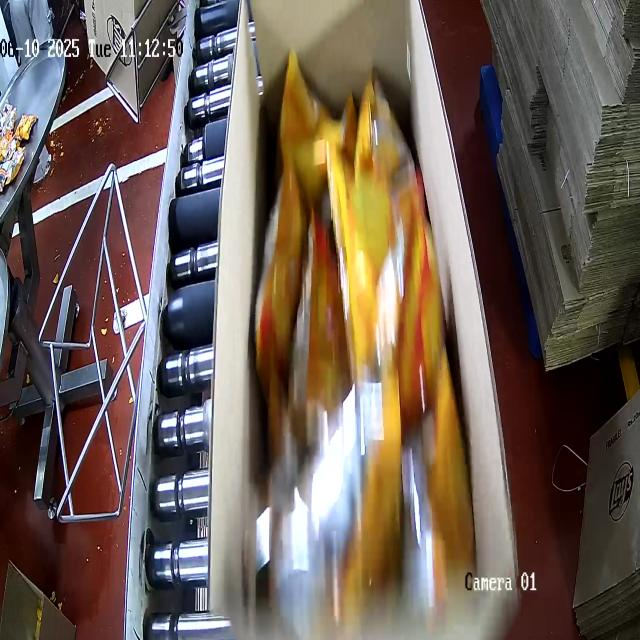FRENCH_CHEESE: (242, 45, 472, 640)
